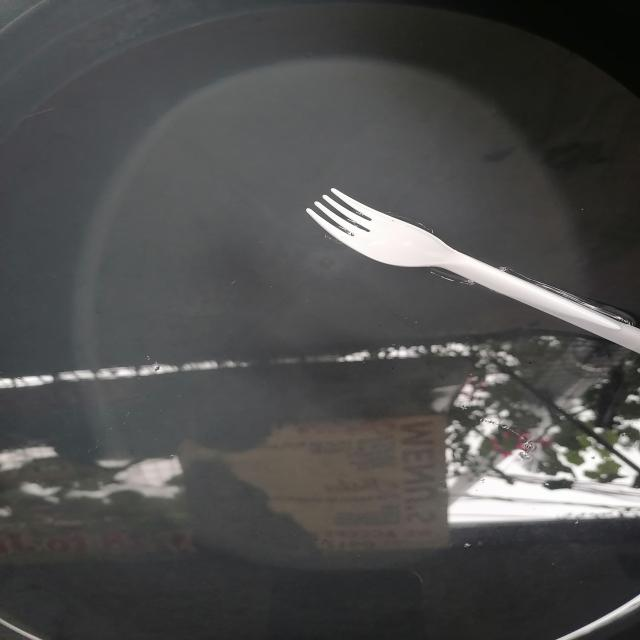Plastic Fork: (306, 188, 640, 353)
